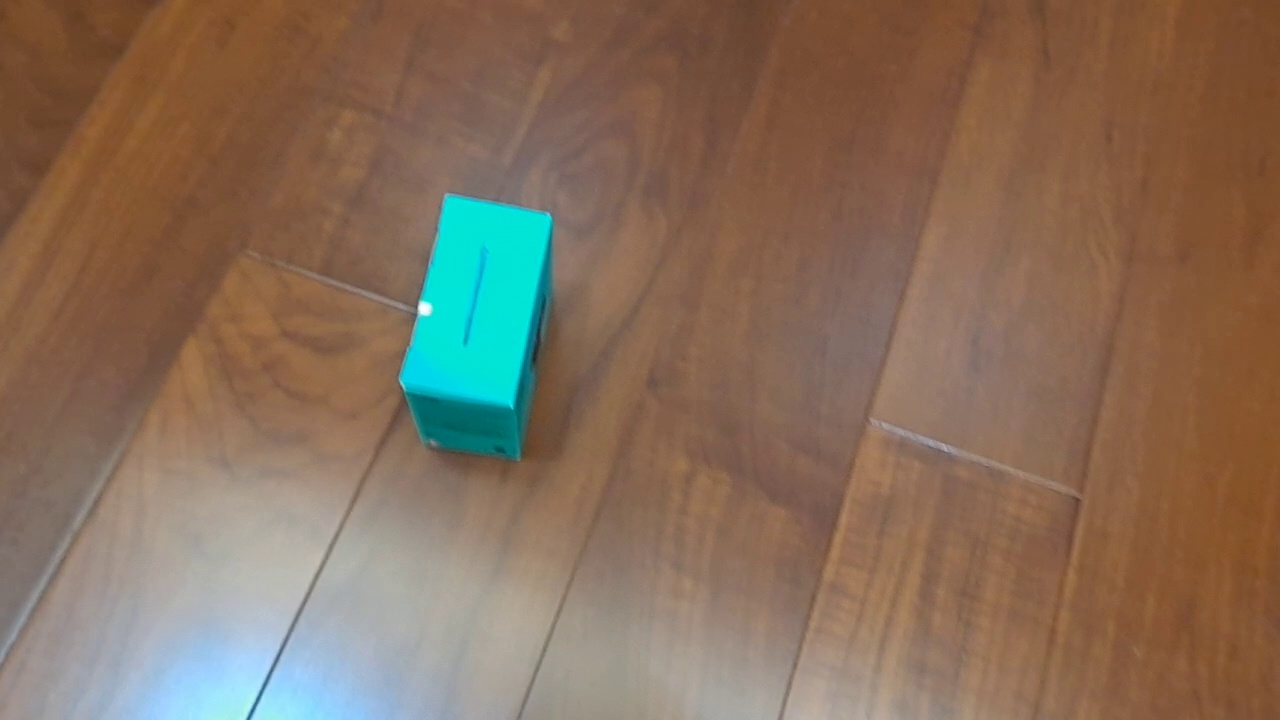webcam: (397, 192, 554, 462)
